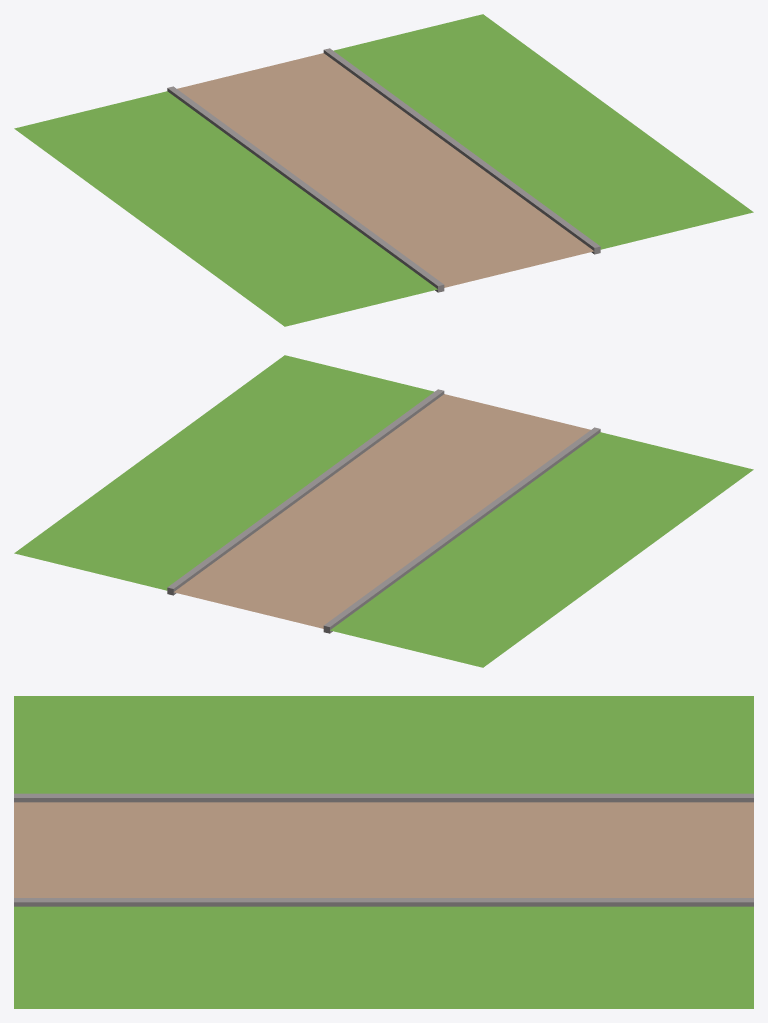
The model's file is park_road_003.fbx.
3 views of the same model, one above another, from view 1: azimuth 30°, elevation 25°; view 2: azimuth 150°, elevation 25°; view 3: azimuth 270°, elevation 25° (orthographic). The views are drawn at different scales.
Parts seen in each view (by area): view 1: park_road_003; view 2: park_road_003; view 3: park_road_003.
Part boxes in pixels (left/top/right/bottom): park_road_003: left=14, top=14, right=753, bottom=326; park_road_003: left=14, top=355, right=753, bottom=667; park_road_003: left=14, top=696, right=753, bottom=1008.
Size of the model in its own units: 1500 by 20 by 1500.
